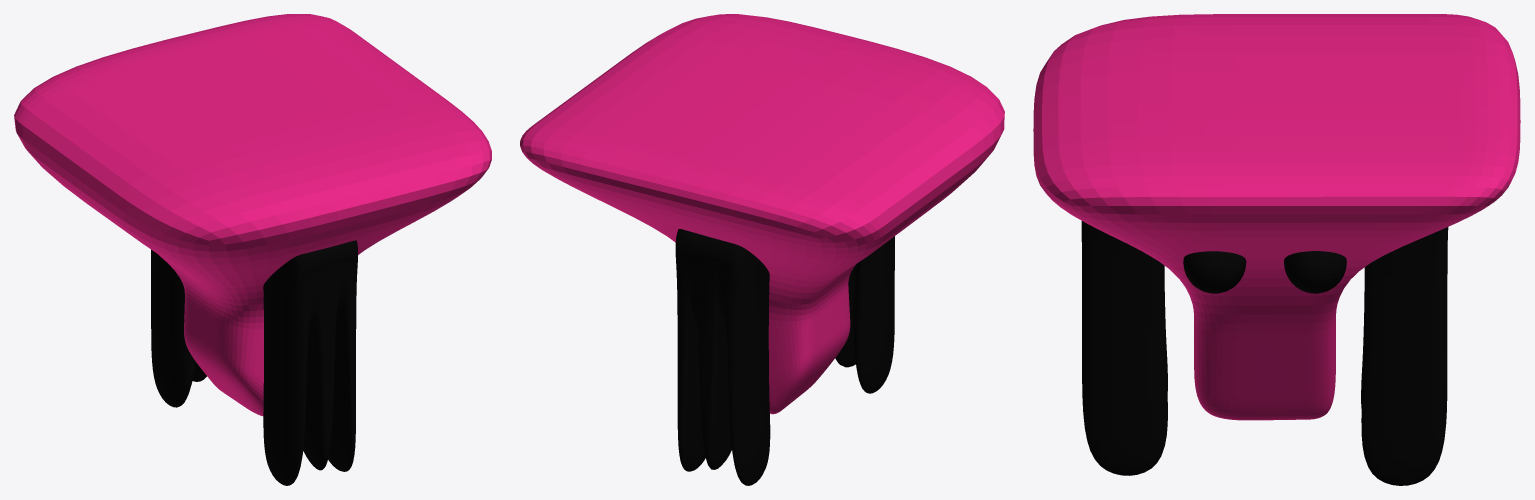
The model's file is Chak.glb.
3 views of the same model, side by side, from view 1: azimuth 30°, elevation 25°; view 2: azimuth 150°, elevation 25°; view 3: azimuth 270°, elevation 25° (orthographic). The views are drawn at different scales.
Parts seen in each view (by area): view 1: Cube, Cube.001, Cube.002; view 2: Cube, Cube.002, Cube.001; view 3: Cube, Cube.002, Cube.001, Sphere.001, Sphere.
Boxes of the visible parts, left/top/right/bottom form: Cube: left=14, top=14, right=491, bottom=416; Cube.001: left=263, top=240, right=357, bottom=485; Cube.002: left=151, top=249, right=206, bottom=407; Cube: left=520, top=14, right=1004, bottom=414; Cube.002: left=675, top=229, right=770, bottom=485; Cube.001: left=835, top=236, right=894, bottom=393; Cube: left=1033, top=14, right=1520, bottom=420; Cube.002: left=1361, top=227, right=1448, bottom=485; Cube.001: left=1081, top=221, right=1167, bottom=475; Sphere.001: left=1284, top=251, right=1346, bottom=293; Sphere: left=1183, top=251, right=1246, bottom=293.
Bounding box in the file's own units: 14.72 × 13.6 × 15.46.
